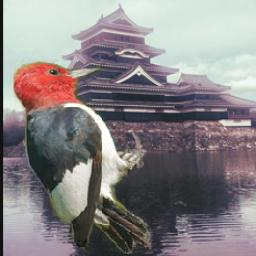Woodpecker: (14, 60, 153, 254)
